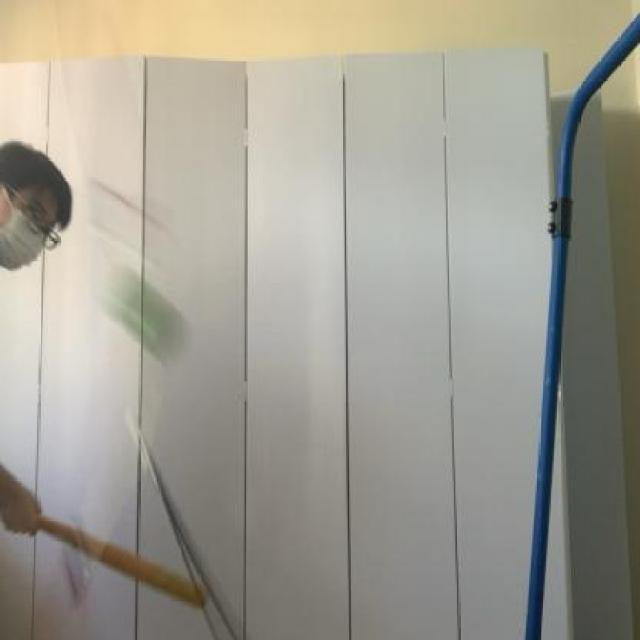baseball: (100, 274, 191, 371)
